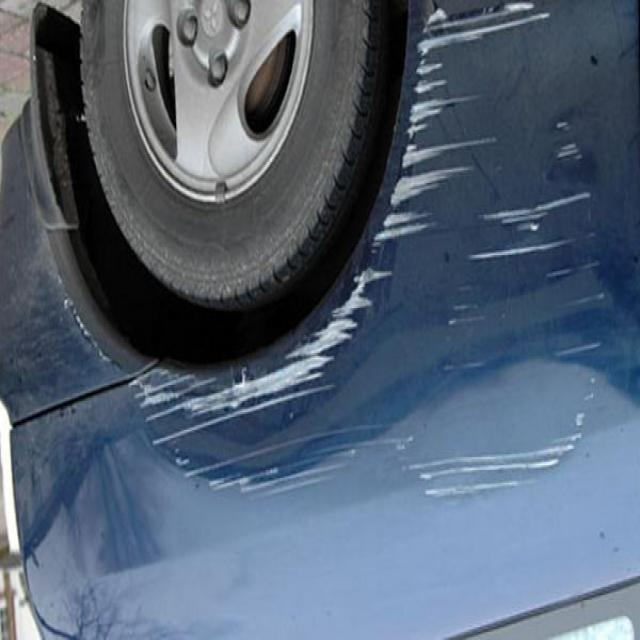scratch: (354, 12, 613, 522), (132, 274, 342, 528)
